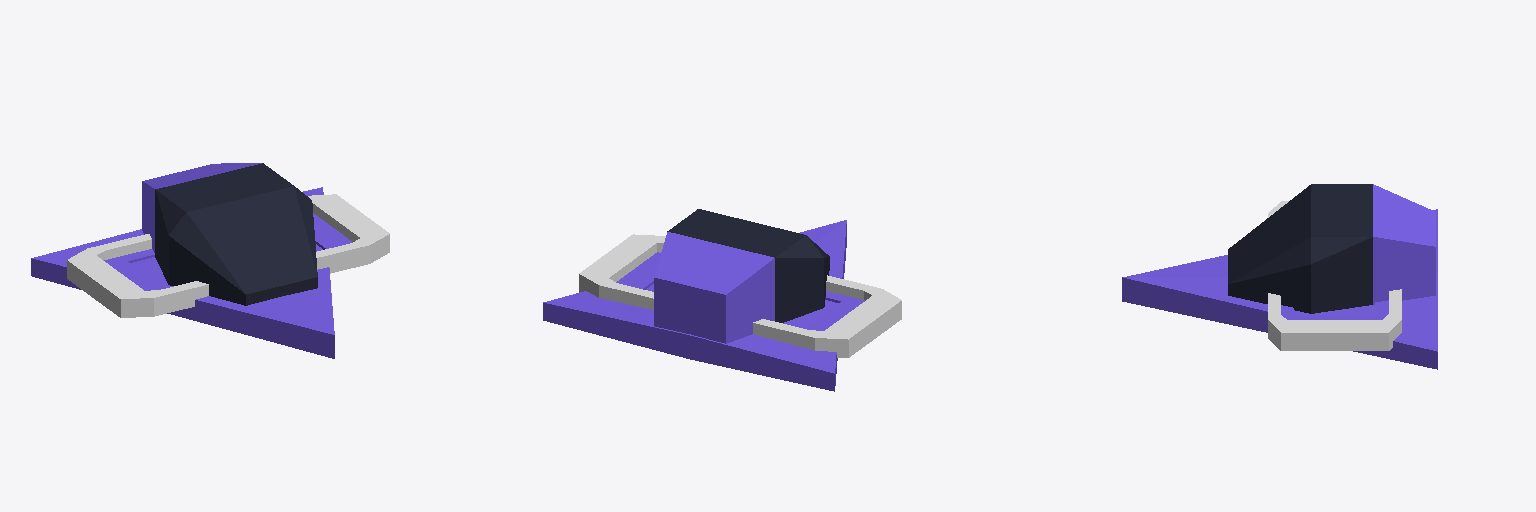
Rendered from flying_00_00.obj.
3 renders of one model, left to right at view 1: azimuth 30°, elevation 25°; view 2: azimuth 150°, elevation 25°; view 3: azimuth 270°, elevation 25°, orthographic.
Visible parts, largest first — view 1: mergedBlocks; view 2: mergedBlocks; view 3: mergedBlocks.
Part boxes in pixels (x1,y1,x2,y2): mergedBlocks: (31,163,389,358); mergedBlocks: (543,209,901,391); mergedBlocks: (1122,184,1437,369).
Bounding box in the file's own units: 1.62 × 0.484 × 1.52.